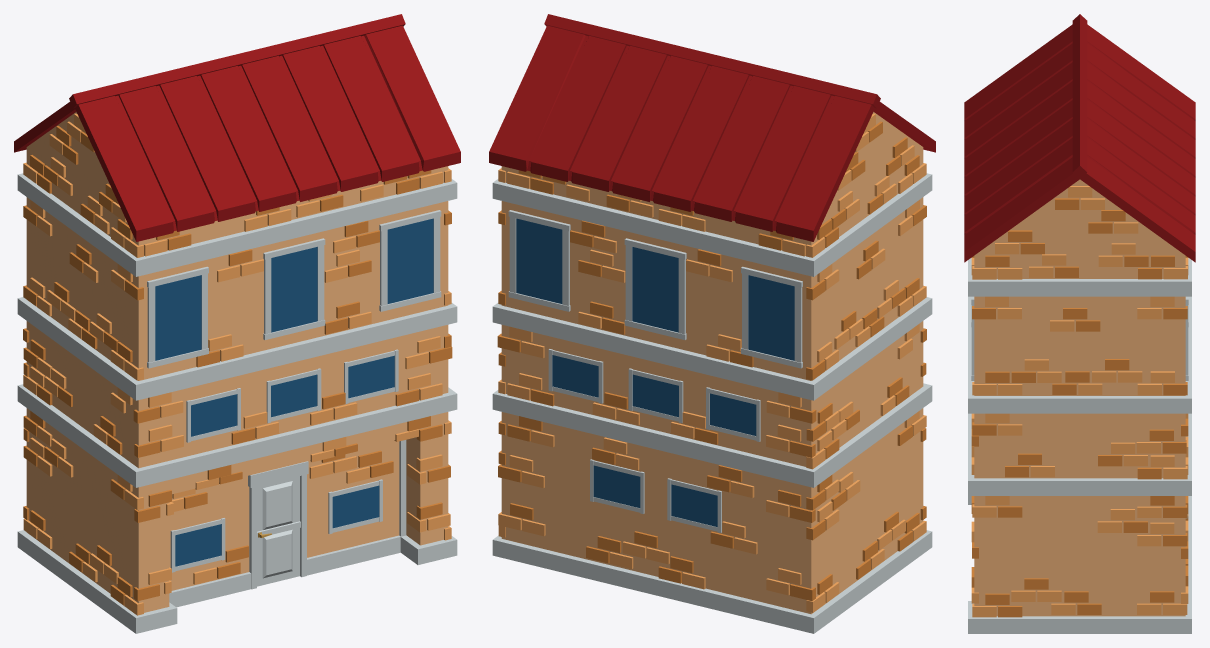
File: SM_House_17.FBX
The picture shows the model from 3 angles, left to right: view 1: azimuth 30°, elevation 25°; view 2: azimuth 150°, elevation 25°; view 3: azimuth 270°, elevation 25°; orthographic projection. The views are drawn at different scales.
Parts seen in each view (by area): view 1: SM_House_17; view 2: SM_House_17; view 3: SM_House_17.
Part boxes in pixels (left/top/right/bottom): SM_House_17: left=14, top=14, right=460, bottom=633; SM_House_17: left=489, top=14, right=935, bottom=633; SM_House_17: left=964, top=14, right=1195, bottom=633.
Size of what is drawn, in the model's own units: 765 by 492 by 1105.
